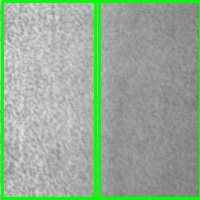pitted_surface: (95, 1, 200, 198), (2, 1, 99, 198)
